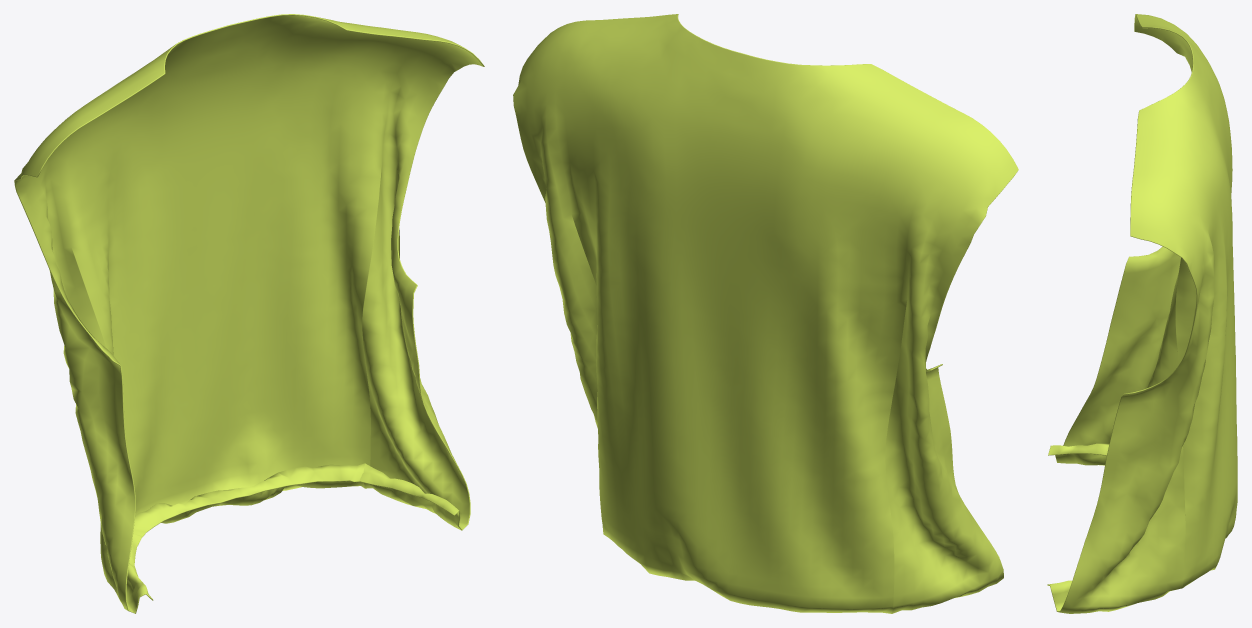
The picture shows the model from 3 angles, left to right: view 1: azimuth 30°, elevation 25°; view 2: azimuth 150°, elevation 25°; view 3: azimuth 270°, elevation 25°; orthographic projection. The views are drawn at different scales.
Parts seen in each view (by area): view 1: Object_10; view 2: Object_10; view 3: Object_10.
Part boxes in pixels (x1,y1,x2,y2): Object_10: (14,14,484,613); Object_10: (513,14,1018,613); Object_10: (1047,14,1237,613).
Size of the model in its own units: 0.3893 by 0.4149 by 0.1497.
